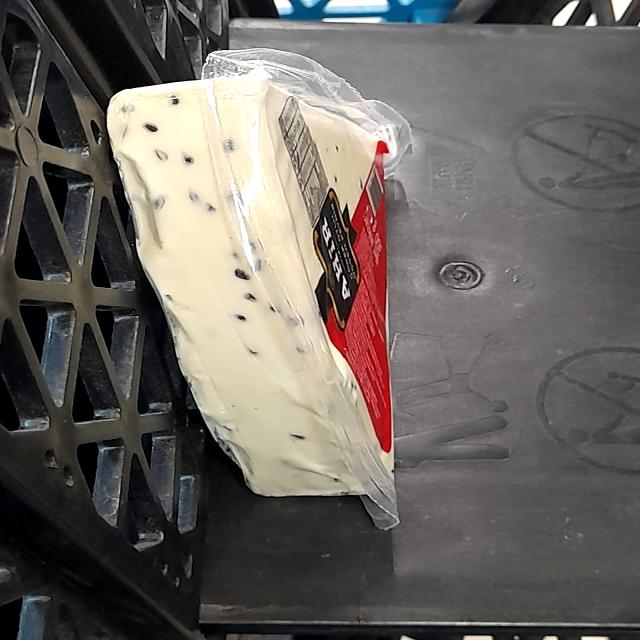cheese: (100, 56, 467, 529)
